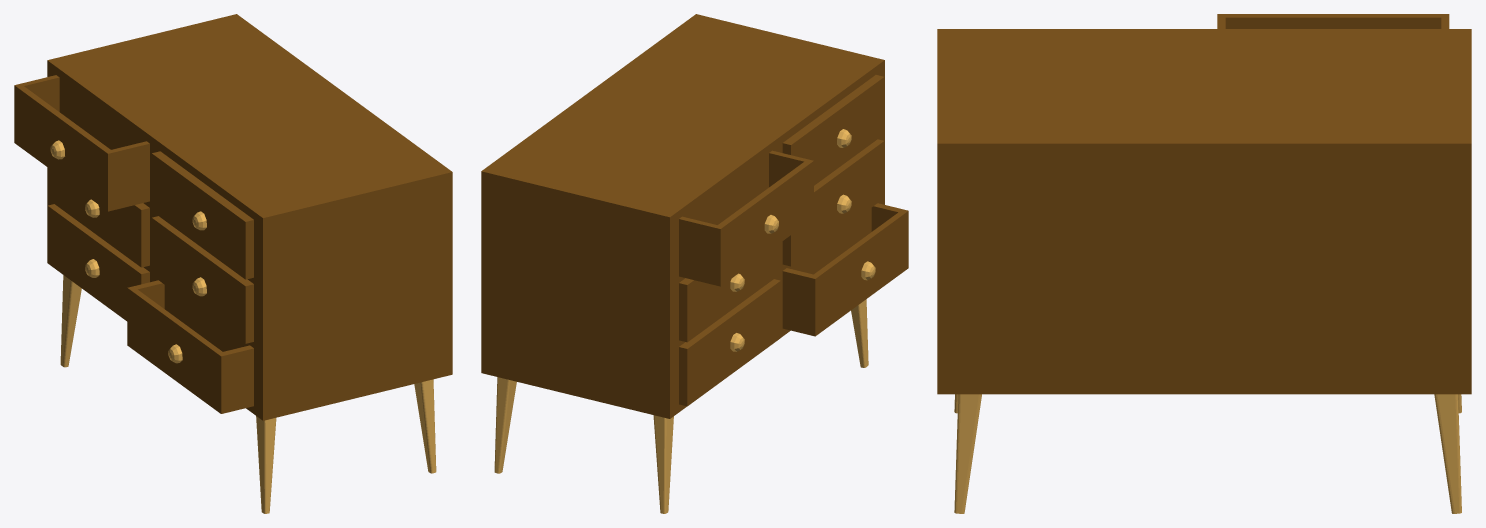
File: Drawer_02.fbx
3 views of the same model, side by side, from view 1: azimuth 30°, elevation 25°; view 2: azimuth 150°, elevation 25°; view 3: azimuth 270°, elevation 25° (orthographic). The views are drawn at different scales.
Parts seen in each view (by area): view 1: Cube.021; view 2: Cube.021; view 3: Cube.021.
Part boxes in pixels (box(x1,y1,x2,y2)): Cube.021: box(14, 14, 452, 513); Cube.021: box(481, 14, 908, 513); Cube.021: box(937, 14, 1471, 513).
Bounding box in the file's own units: 73.13 × 88.21 × 114.
